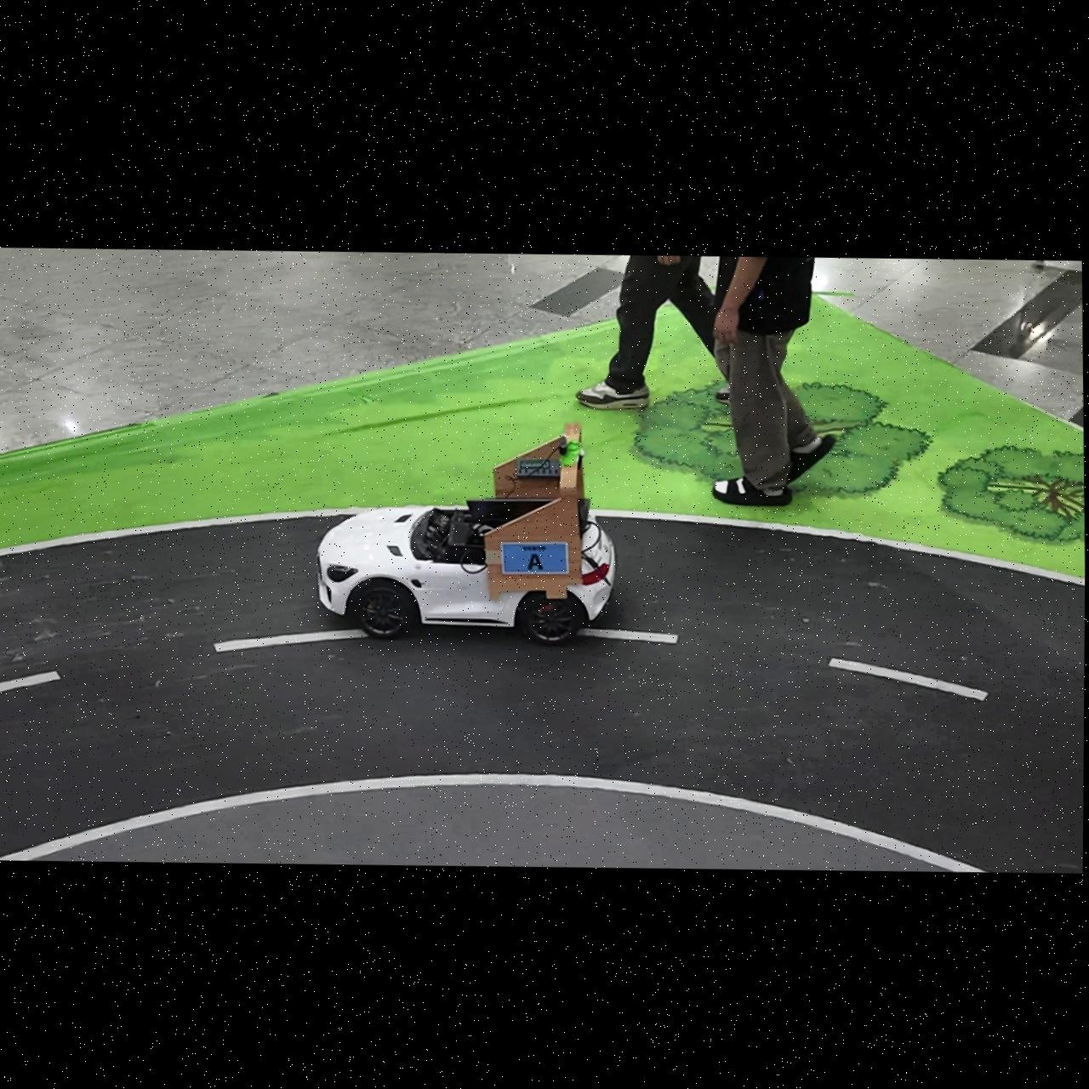broken_line: (827, 658, 989, 701), (214, 629, 367, 652), (580, 628, 678, 644), (0, 671, 61, 693)
